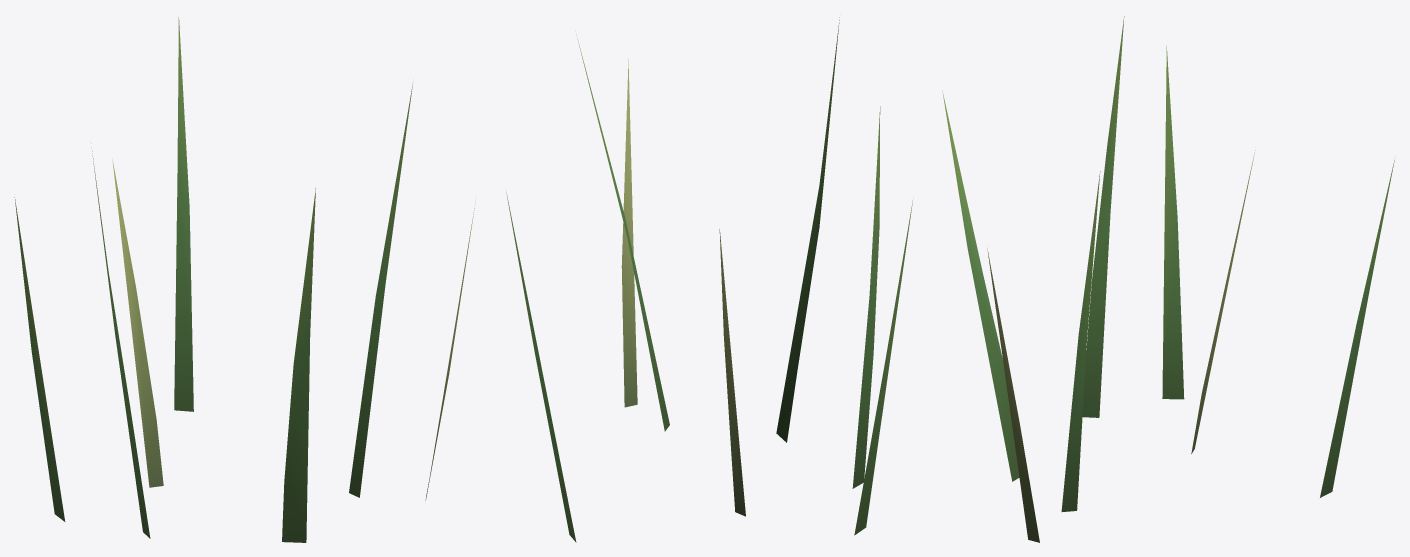
The model's file is MeadowSoft_LOD2.glb.
3 renders of one model, left to right at view 1: azimuth 30°, elevation 25°; view 2: azimuth 150°, elevation 25°; view 3: azimuth 270°, elevation 25°, orthographic. The views are drawn at different scales.
Parts seen in each view (by area): view 1: MeadowSoft_LOD2; view 2: MeadowSoft_LOD2; view 3: MeadowSoft_LOD2.
Boxes of the visible parts, <box> form: MeadowSoft_LOD2: <box>14,17,475,542</box>; MeadowSoft_LOD2: <box>506,17,912,542</box>; MeadowSoft_LOD2: <box>942,16,1395,542</box>.
Bounding box in the file's own units: 0.2708 × 0.2803 × 0.2938.
